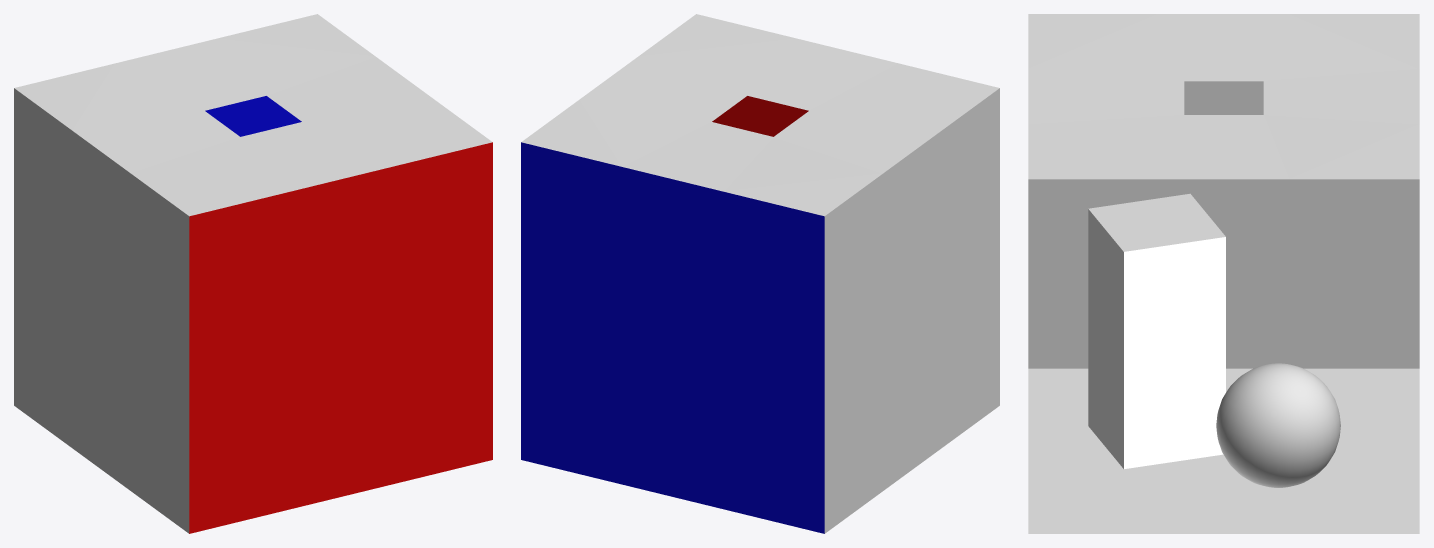
File: cornell-1.glb
The picture shows the model from 3 angles, left to right: view 1: azimuth 30°, elevation 25°; view 2: azimuth 150°, elevation 25°; view 3: azimuth 270°, elevation 25°; orthographic projection. The views are drawn at different scales.
Parts seen in each view (by area): view 1: Cube; view 2: Cube; view 3: Cube, Cube.001, Sphere.
Boxes of the visible parts, x1=… form: Cube: x1=14, y1=14, x2=492, y2=533; Cube: x1=521, y1=14, x2=999, y2=533; Cube: x1=1028, y1=14, x2=1419, y2=533; Cube.001: x1=1088, y1=193, x2=1225, y2=468; Sphere: x1=1216, y1=363, x2=1340, y2=487.
Bounding box in the file's own units: 10 × 10.02 × 10.
